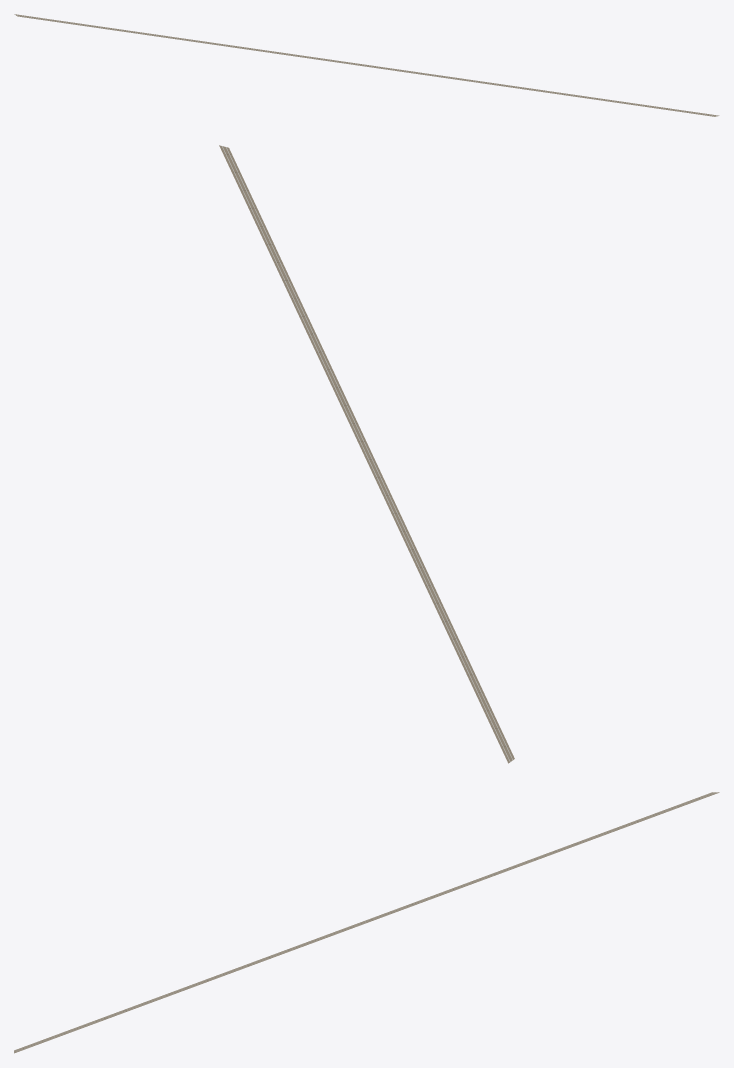
3 renders of one model, top to bottom at view 1: azimuth 30°, elevation 25°; view 2: azimuth 150°, elevation 25°; view 3: azimuth 270°, elevation 25°, orthographic. The views are drawn at different scales.
Visible parts, largest first — view 1: rail; view 2: rail; view 3: rail.
Part boxes in pixels (box(x1,y1,x2,y2)): rail: box(14, 14, 719, 116); rail: box(219, 145, 514, 763); rail: box(14, 792, 719, 1053).
Size of the model in its own units: 409 by 0.04 by 467.
